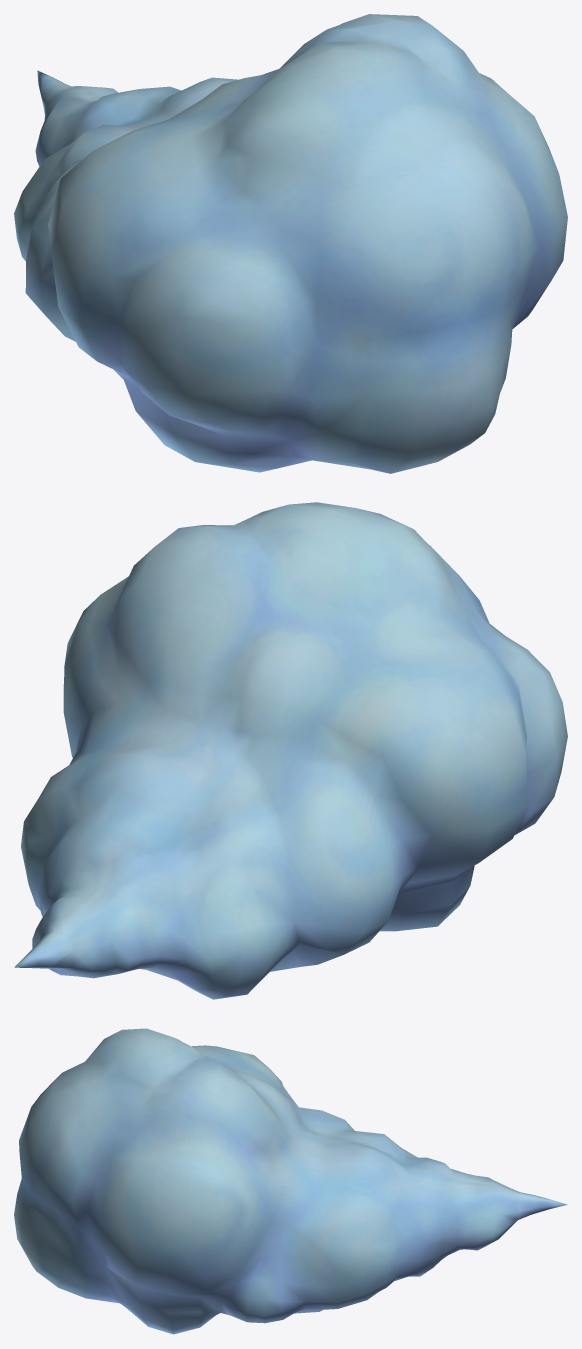
The model's file is Cloud.obj.
3 renders of one model, top to bottom at view 1: azimuth 30°, elevation 25°; view 2: azimuth 150°, elevation 25°; view 3: azimuth 270°, elevation 25°, orthographic. The views are drawn at different scales.
Visible parts, largest first — view 1: Cloud; view 2: Cloud; view 3: Cloud.
Part boxes in pixels (x1,y1,x2,y2): Cloud: (14, 14, 567, 473); Cloud: (14, 502, 567, 999); Cloud: (14, 1028, 567, 1334).
Bounding box in the file's own units: 134 × 108 × 209.
1 material, 1 textured.
